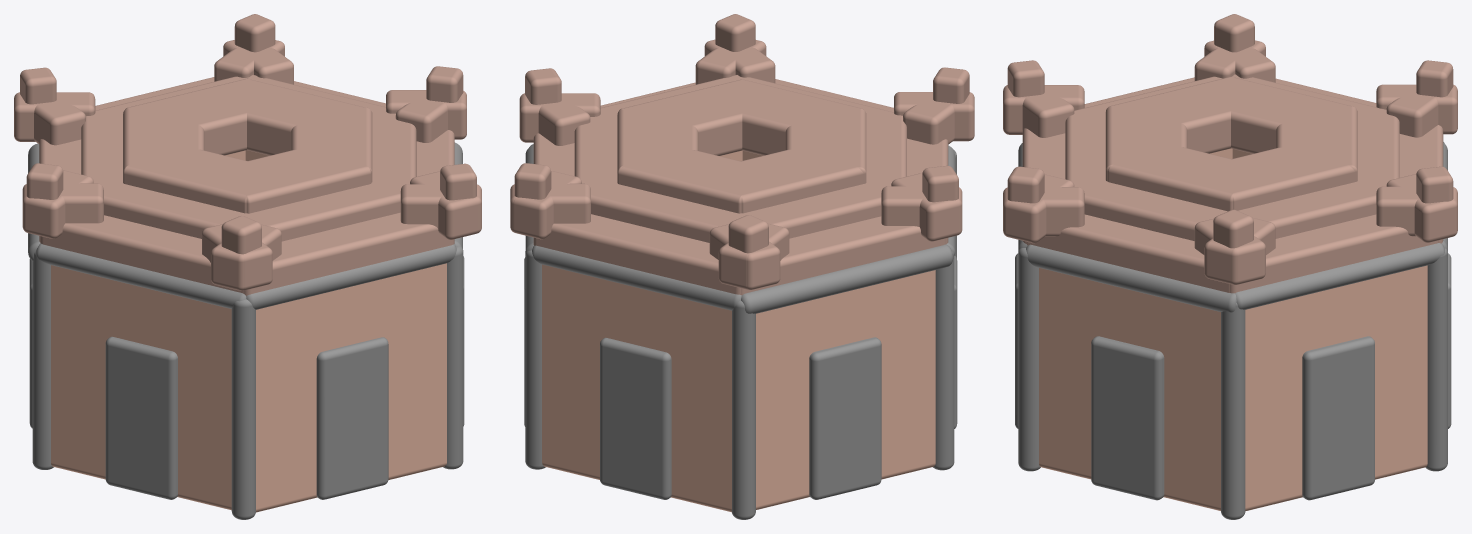
The model's file is tower.gltf.
3 renders of one model, left to right at view 1: azimuth 30°, elevation 25°; view 2: azimuth 150°, elevation 25°; view 3: azimuth 270°, elevation 25°, orthographic.
Parts seen in each view (by area): view 1: Brick (×35), Light-Brown (×2), Grey (×8); view 2: Brick (×35), Light-Brown (×2), Grey (×8); view 3: Brick (×36), Light-Brown (×2), Grey (×9).
Boxes of the visible parts, x1,y1,x2,y2 form: Brick (×35): [14, 14, 481, 295]; Light-Brown (×2): [51, 263, 446, 512]; Grey (×8): [29, 243, 463, 519]; Brick (×35): [510, 14, 974, 295]; Light-Brown (×2): [542, 264, 935, 512]; Grey (×8): [525, 244, 957, 519]; Brick (×36): [1003, 14, 1457, 293]; Light-Brown (×2): [1039, 265, 1427, 511]; Grey (×9): [1015, 243, 1451, 519].
Bounding box in the file's own units: 6.3 × 4.04 × 5.58.
